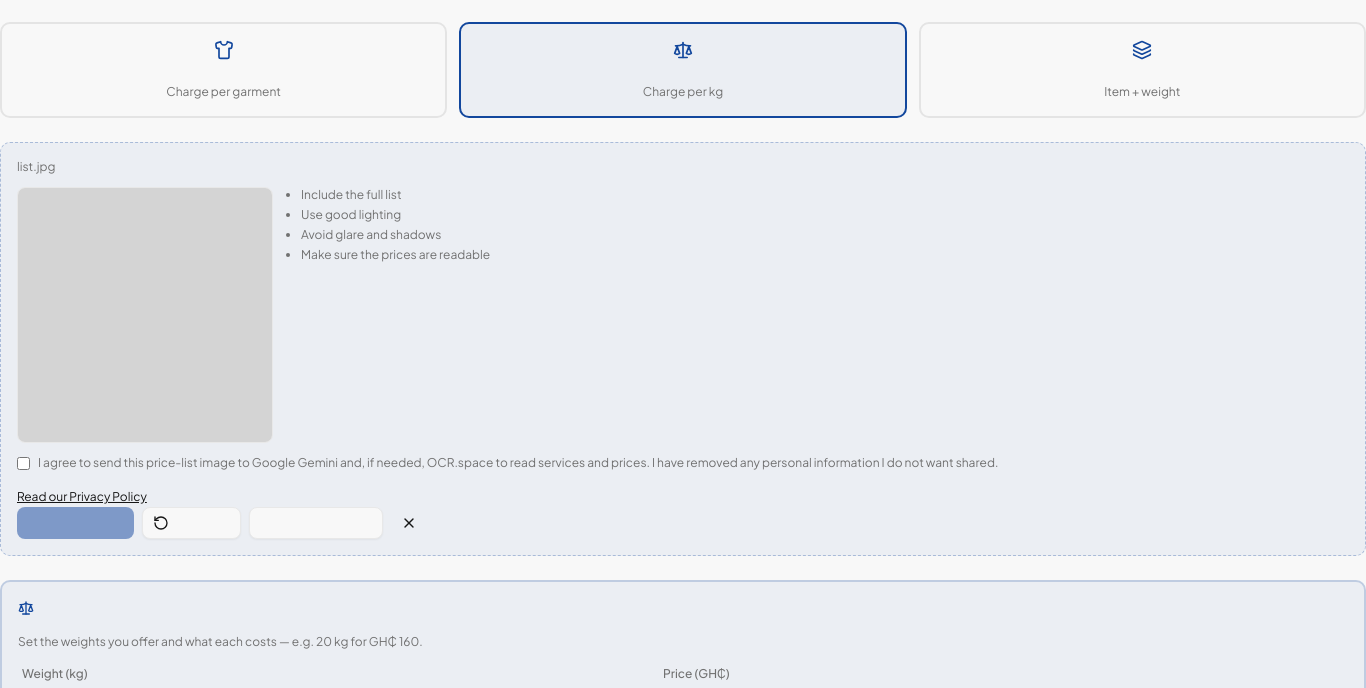
it: onboarding: PER_KG on the pricing step (weight-only laundries) › PER_KG is not dropped: it becomes the 1 kg tier, other tiers untouched
Earlier steps of the test are not shown.
Later steps or results of the test are not shown.
Step 1. Click the checkbox labelled "agree to send this price-list image" → coordinates (24, 464), box [17,457,30,470]
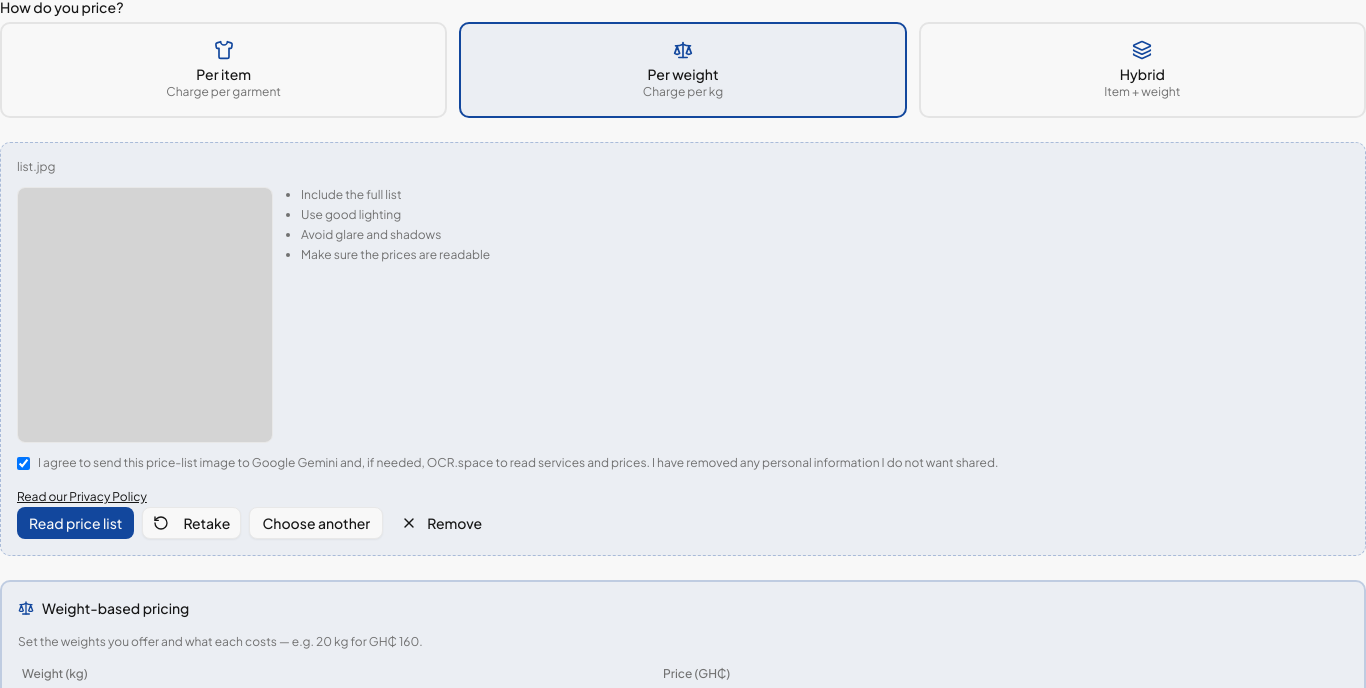
Step 2. Click the button "Read price list" → coordinates (76, 523), box [17,507,134,539]
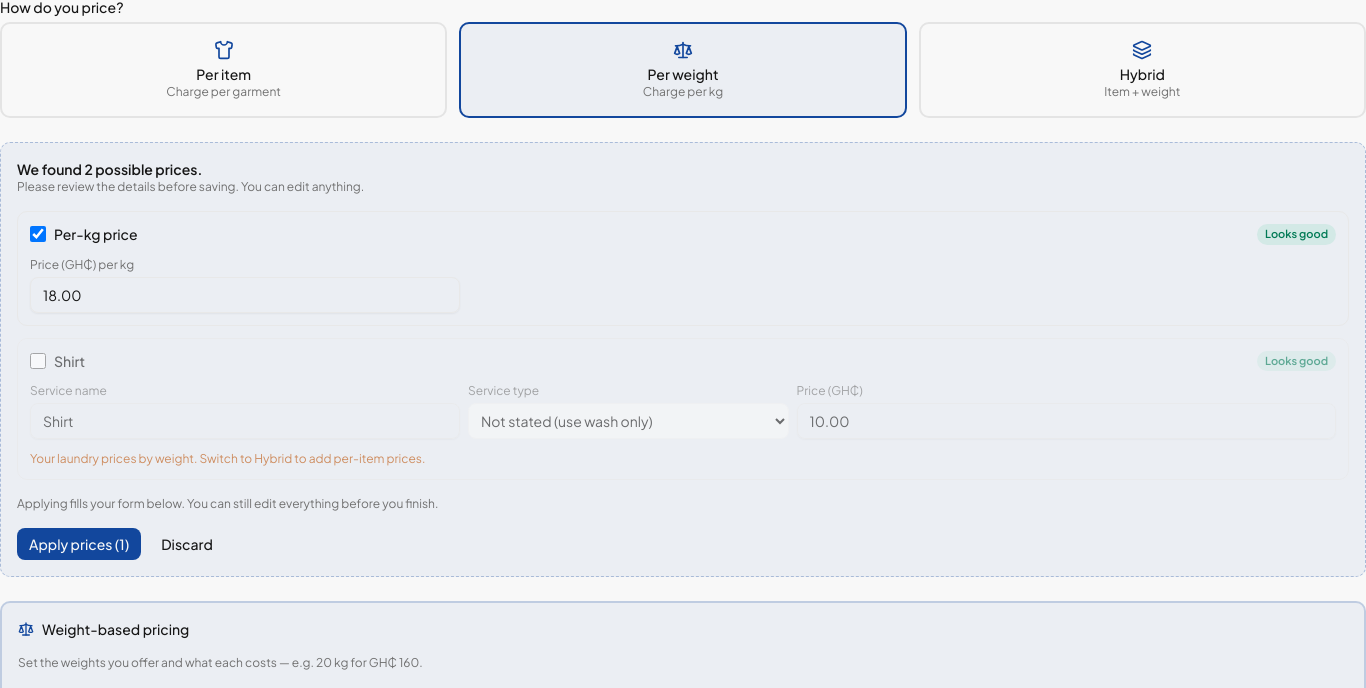
Expected: the text "We found 2 possible prices." is shown, [17,160,202,178]
Step 3. Click the button "Apply prices (1)" → coordinates (79, 544), box [17,528,141,560]
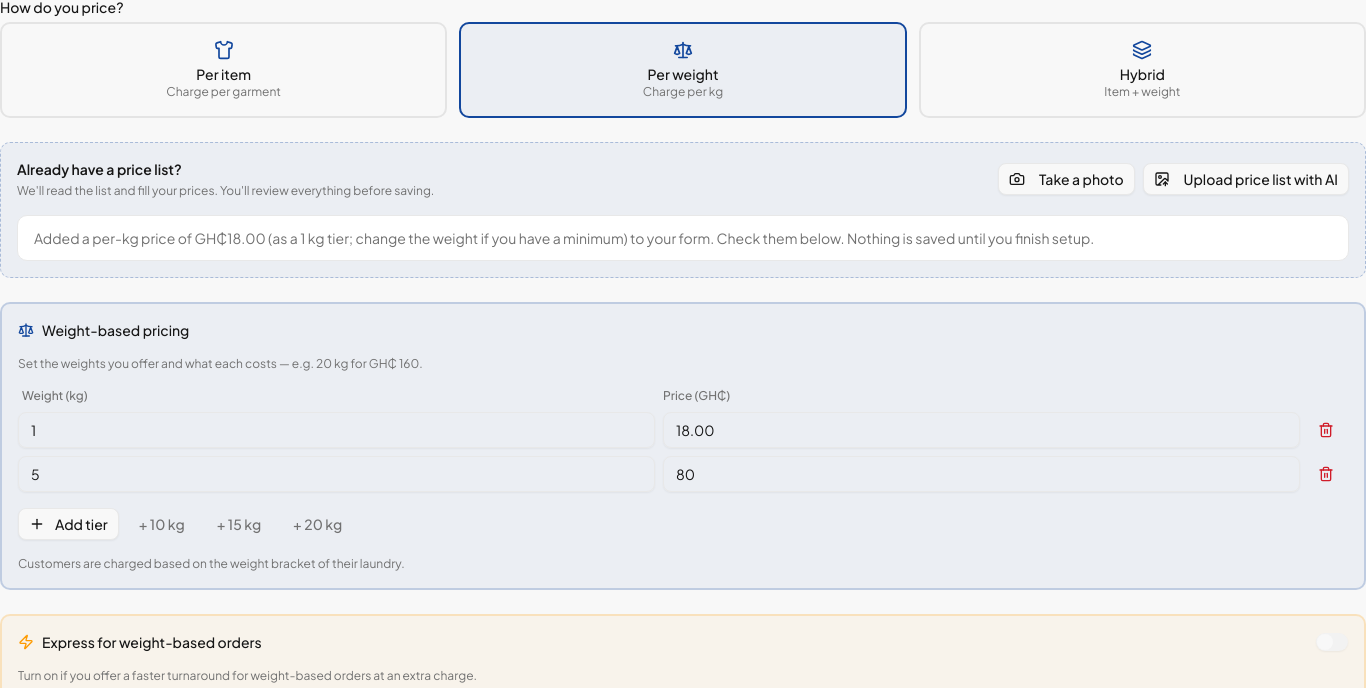
Expected: the text "to your form" is shown, [34,229,1094,247]
